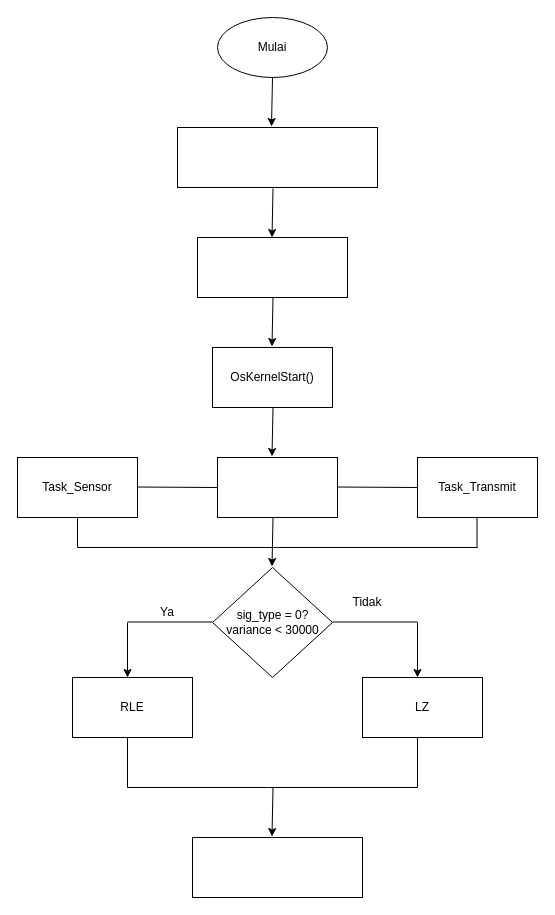
Image size: 555x915. Some labels were removed from this diagram. Here are the shapes that lost their labels. From the top down, the centre of each, then its label:
At (x=277, y=157): "HAL_Init + Clock + Peripheral GPIO, DMA, ADC, TIM2, UART".
At (x=272, y=267): "Task FreeRTOS + mutex".
At (x=277, y=487): "Task_Process".
At (x=277, y=867): "Update Shared Variabel compressed, sig_type, counter".
